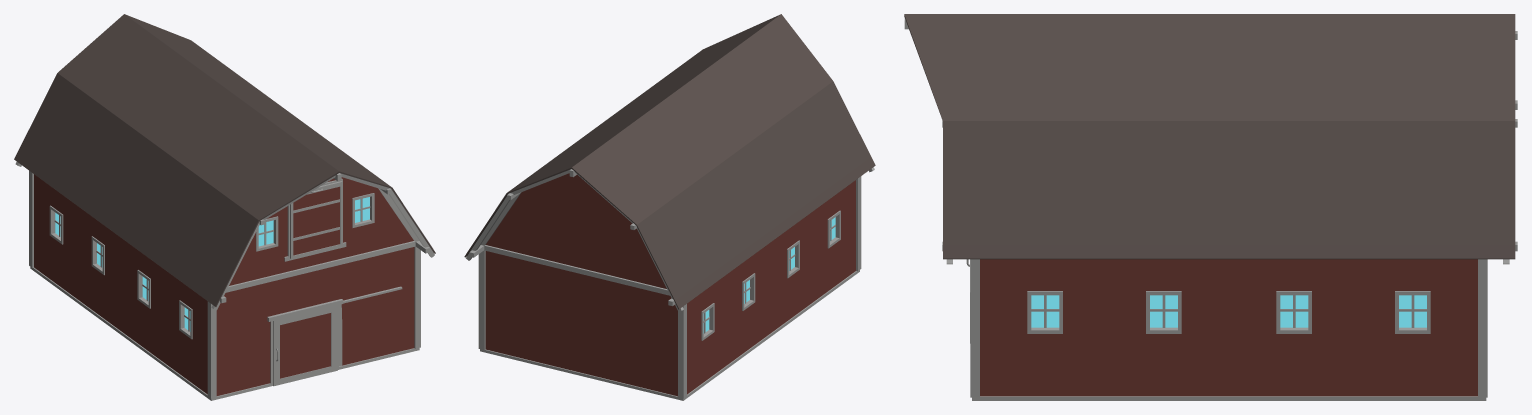
Rendered from Grange.fbx.
3 views of the same model, side by side, from view 1: azimuth 30°, elevation 25°; view 2: azimuth 150°, elevation 25°; view 3: azimuth 270°, elevation 25° (orthographic). The views are drawn at different scales.
Visible parts, largest first — view 1: RedBarn15; view 2: RedBarn15; view 3: RedBarn15.
Boxes of the visible parts, box(x1,y1,x2,y2) form: RedBarn15: box(14, 14, 435, 400); RedBarn15: box(464, 14, 875, 400); RedBarn15: box(904, 14, 1517, 400).
Bounding box in the file's own units: 1054 × 1007 × 1779.
